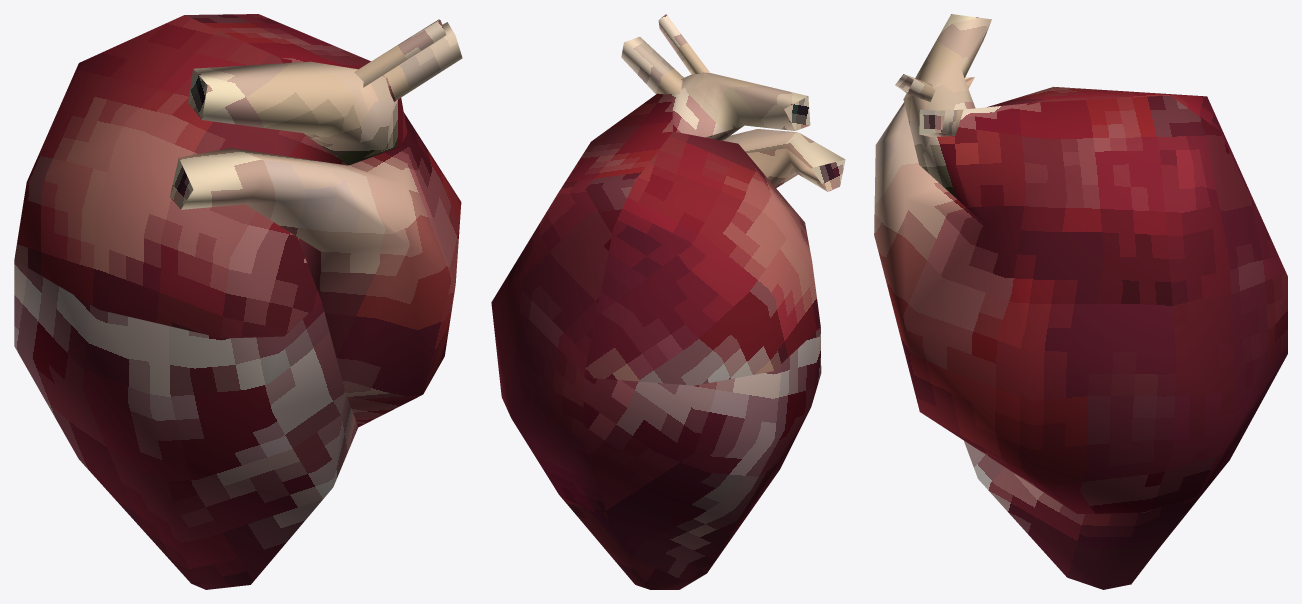
File: eqp_organ_heart_s02_l2.fbx
3 views of the same model, side by side, from view 1: azimuth 30°, elevation 25°; view 2: azimuth 150°, elevation 25°; view 3: azimuth 270°, elevation 25° (orthographic). The views are drawn at different scales.
Parts seen in each view (by area): view 1: mesh_node; view 2: mesh_node; view 3: mesh_node.
Boxes of the visible parts, <box> form: mesh_node: <box>14,14,462,589</box>; mesh_node: <box>491,14,845,589</box>; mesh_node: <box>874,14,1287,589</box>.
Bounding box in the file's own units: 0.0855 × 0.1361 × 0.0915.
